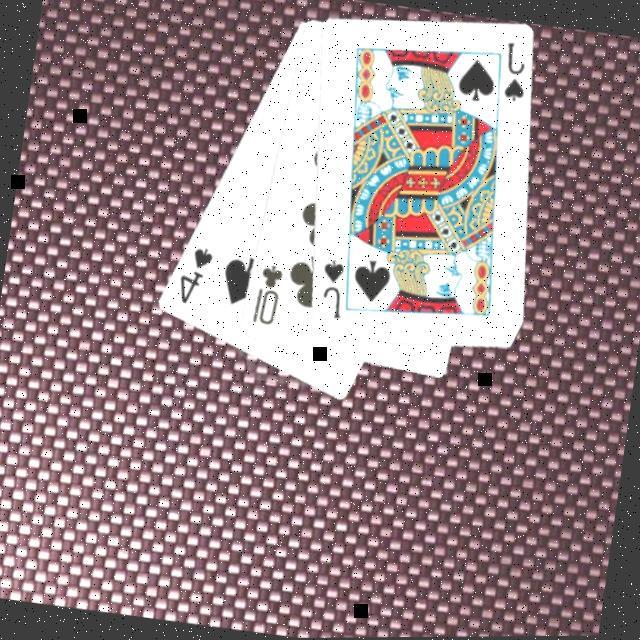10C: (245, 260, 284, 331)
4S: (170, 243, 215, 311)
JS: (310, 256, 349, 324), (494, 40, 532, 107)
